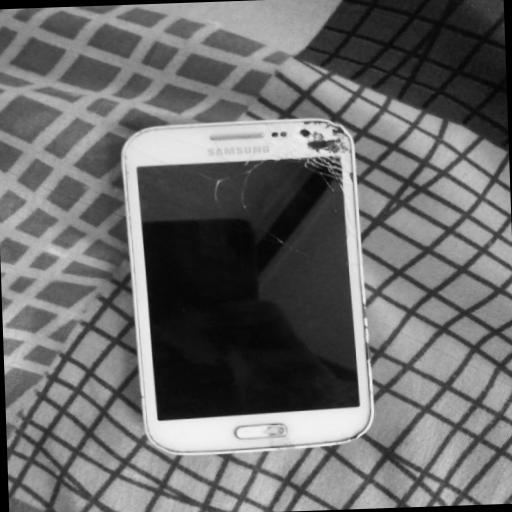phone: (122, 118, 372, 453)
